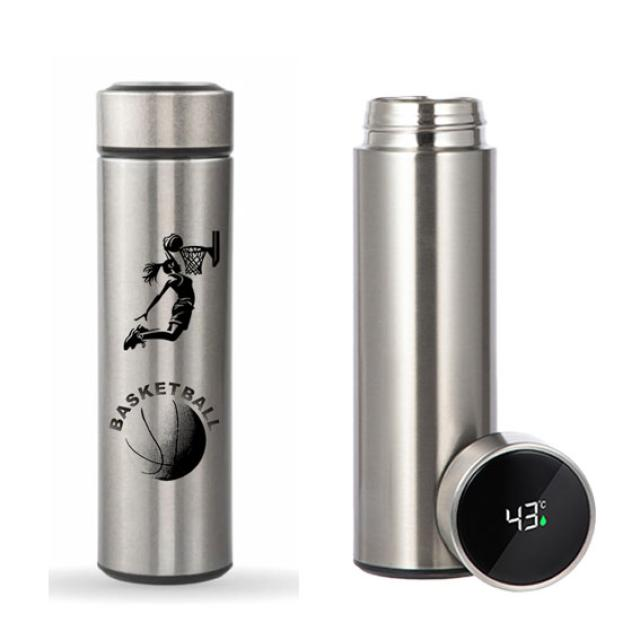Termos: (91, 80, 235, 586)
